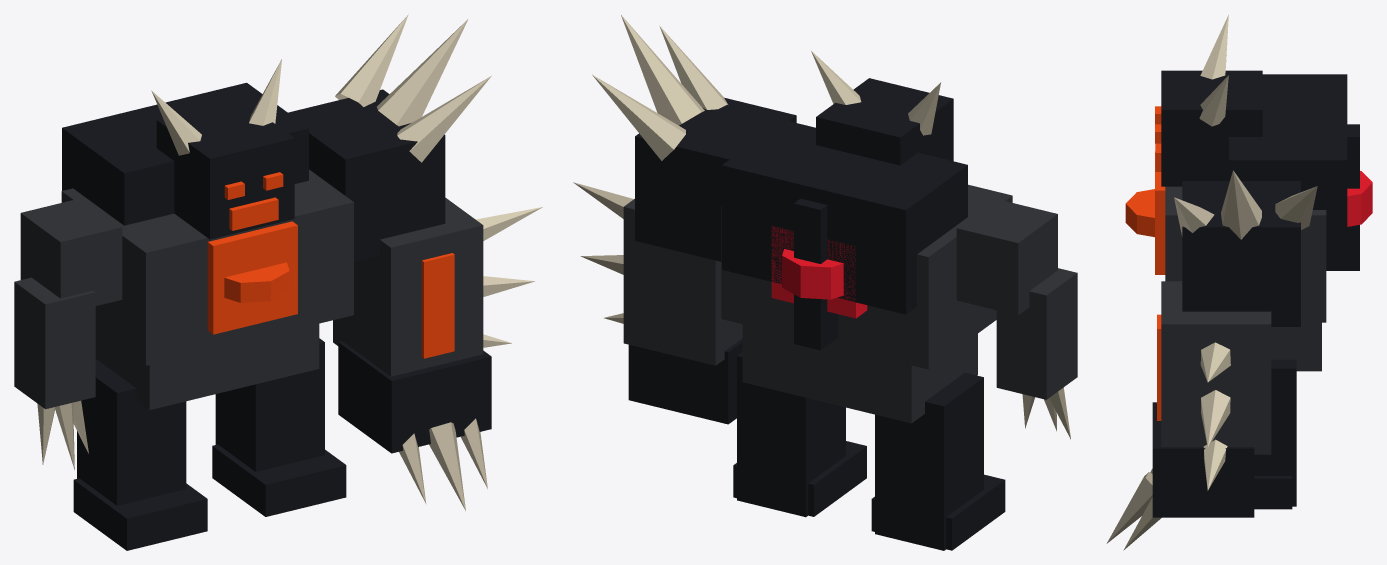
Rendered from goliath_boss.obj.
The picture shows the model from 3 angles, left to right: view 1: azimuth 30°, elevation 25°; view 2: azimuth 150°, elevation 25°; view 3: azimuth 270°, elevation 25°; orthographic projection. The views are drawn at different scales.
Size of the model in its own units: 6.52 by 5.4 by 3.15.
